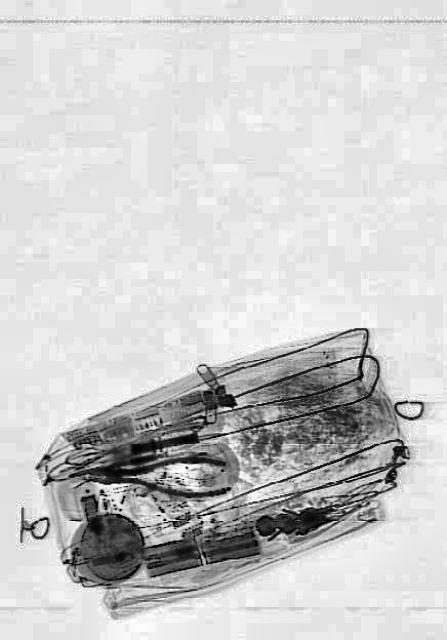Pliers: (93, 450, 229, 500)
